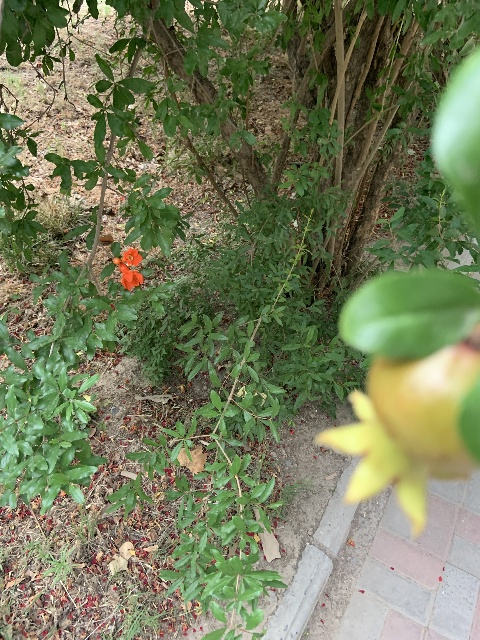bud: (113, 256, 120, 265)
flower: (118, 263, 143, 291), (121, 248, 142, 266)
mid-growth: (315, 336, 480, 533)
